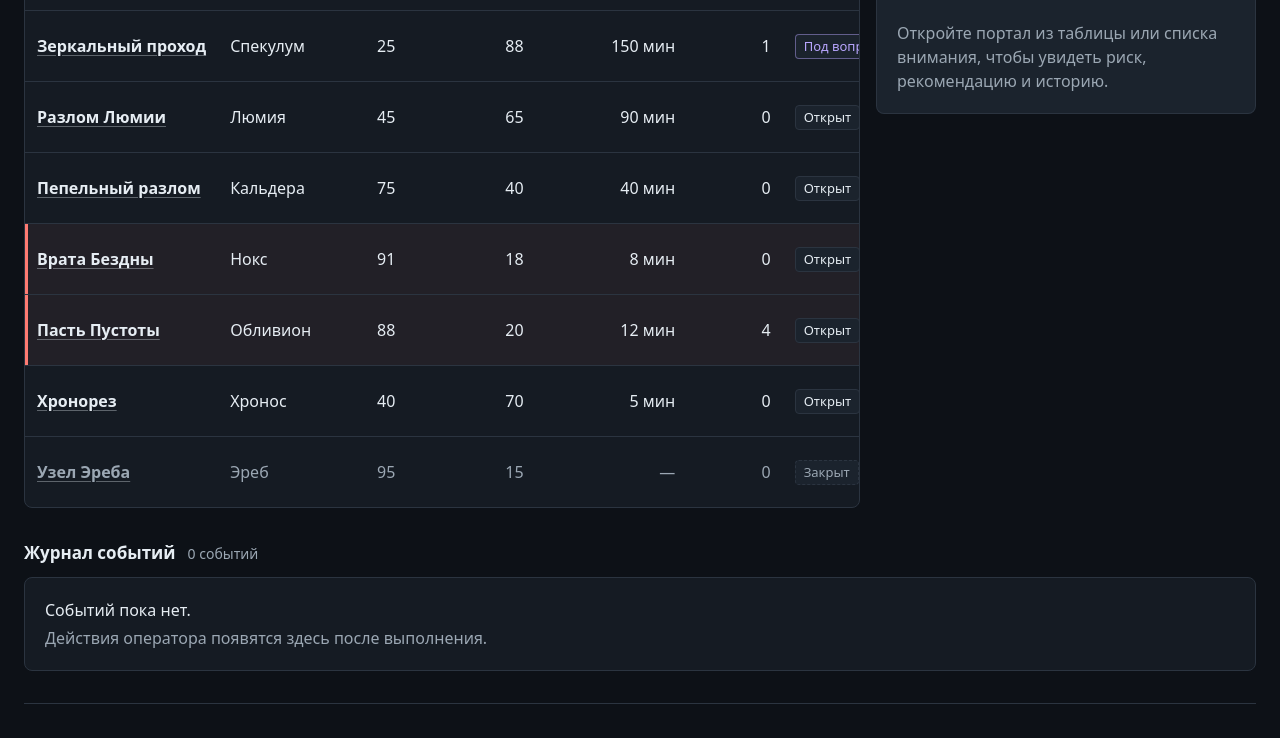
Test case: Выбор портала и карточка › история выбранного портала пока пуста
The width and height of the screenshot is (1280, 738).
(page scrolled)
What coordinates should you click on to do the following:
click the button "Хронорез"
I would click on:
 (77, 401)
Its box is x1=37 y1=389 x2=117 y2=413.
(page scrolled)
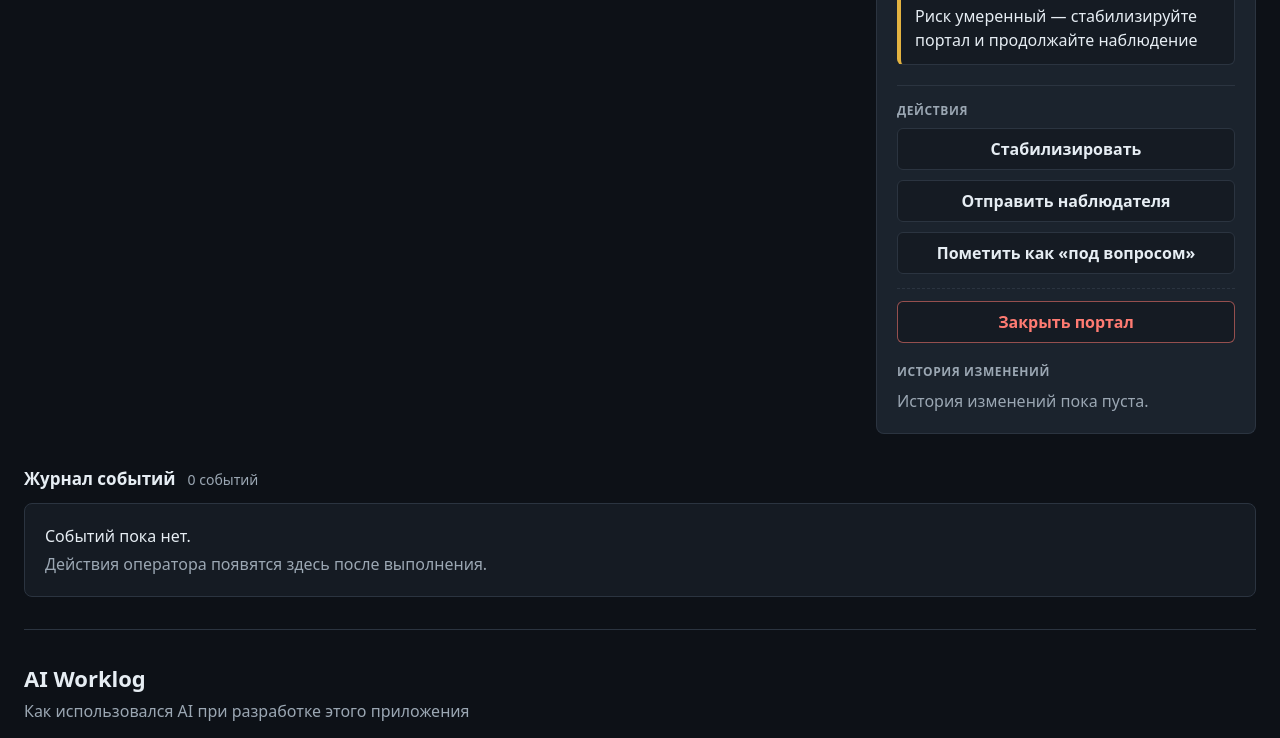
Result: the text "История изменений пока пуста." is shown at x1=897 y1=390 x2=1148 y2=412
